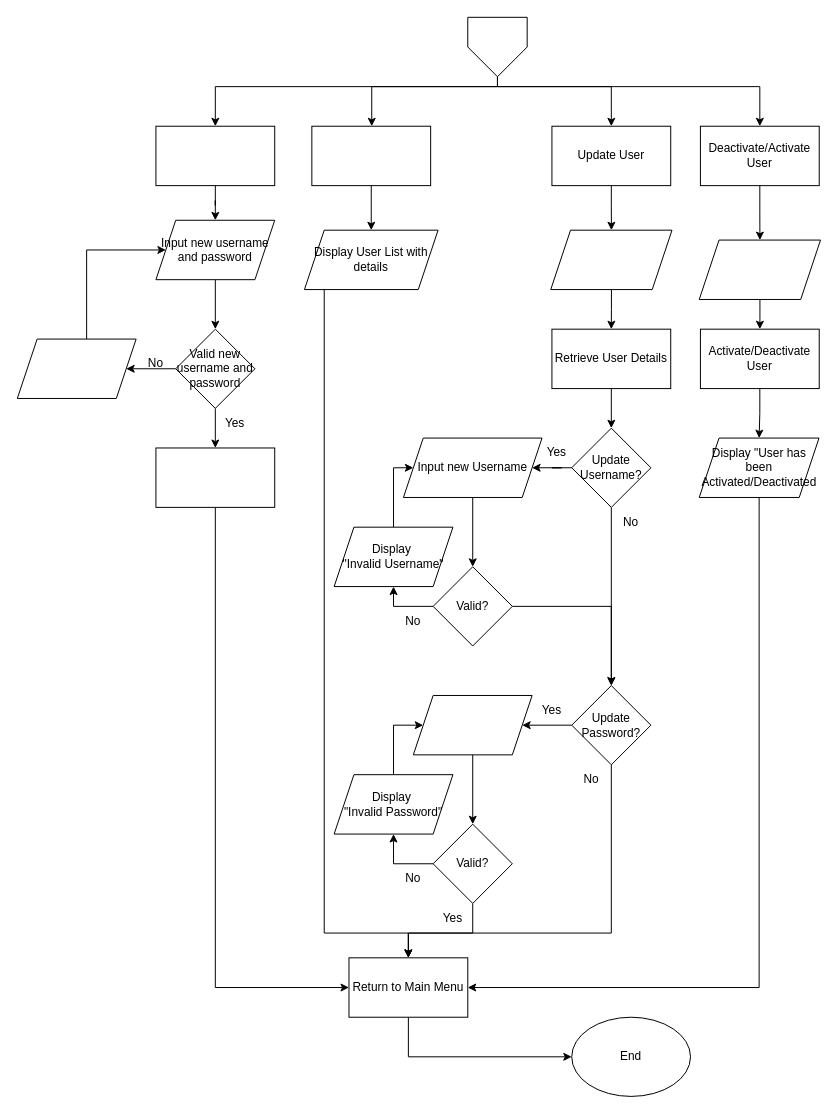
Image size: 839x1114. Some labels were removed from this diagram. The centre of each missing label's shape, as x and y in pixels:
Admin Module: pixel 497 46
Create User: pixel 215 155
Display "Invalid Username or Password": pixel 76 368
Input new Password: pixel 472 724
Input Username to activate/deactivate: pixel 759 269
Input Username to update: pixel 611 259
Retrieve User List: pixel 371 155
Save to Database: pixel 215 477
